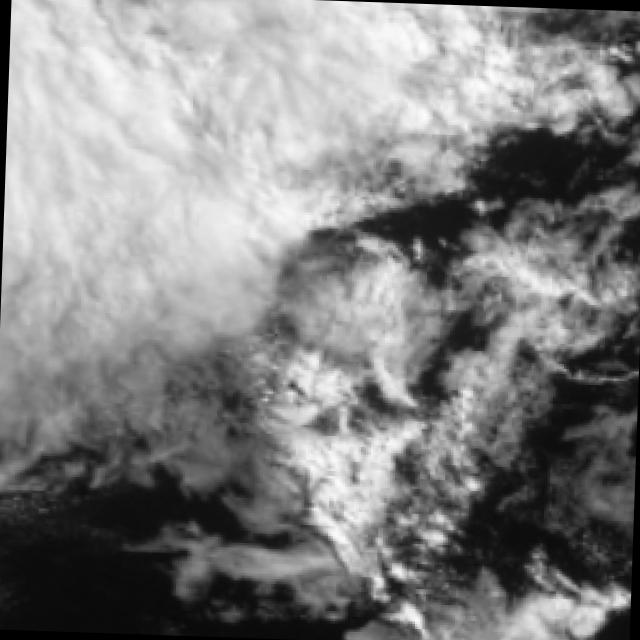CB: (3, 112, 260, 308), (7, 0, 381, 126)
